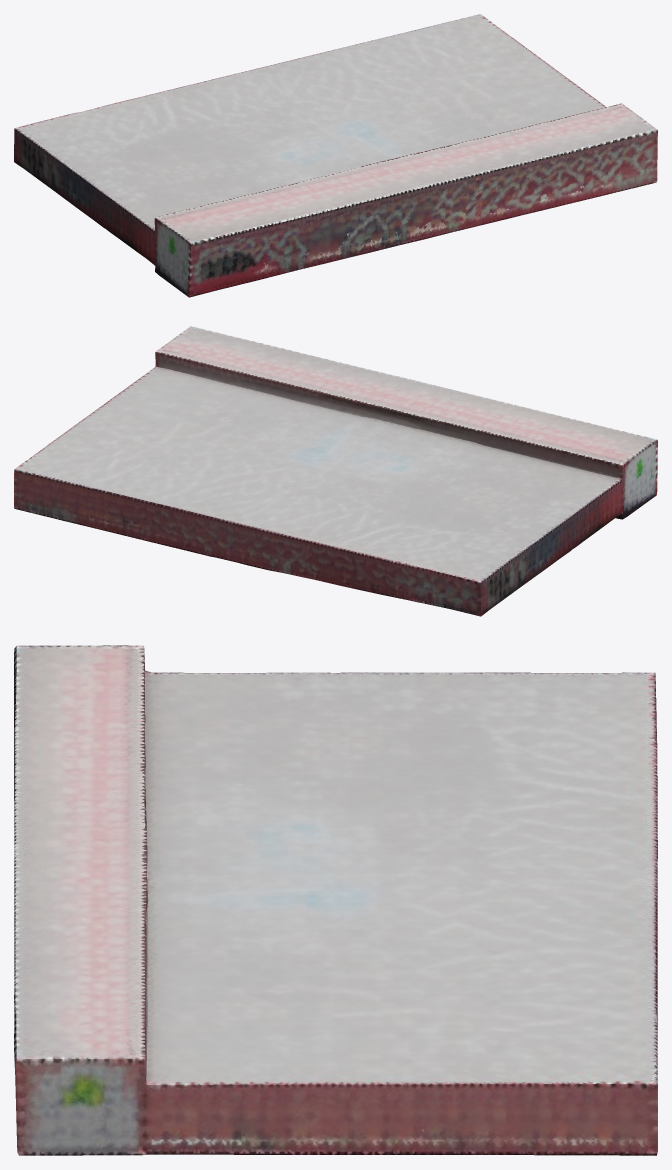
The model's file is box-skate-03.glb.
3 views of the same model, one above another, from view 1: azimuth 30°, elevation 25°; view 2: azimuth 150°, elevation 25°; view 3: azimuth 270°, elevation 25° (orthographic). The views are drawn at different scales.
Visible parts, largest first — view 1: park03; view 2: park03; view 3: park03.
Boxes of the visible parts, x1,y1,x2,y2 form: park03: (14,14,657,297); park03: (14,326,657,616); park03: (14,645,657,1155).
Bounding box in the file's own units: 4.42 × 0.4996 × 2.91.
1 material, 1 textured.
